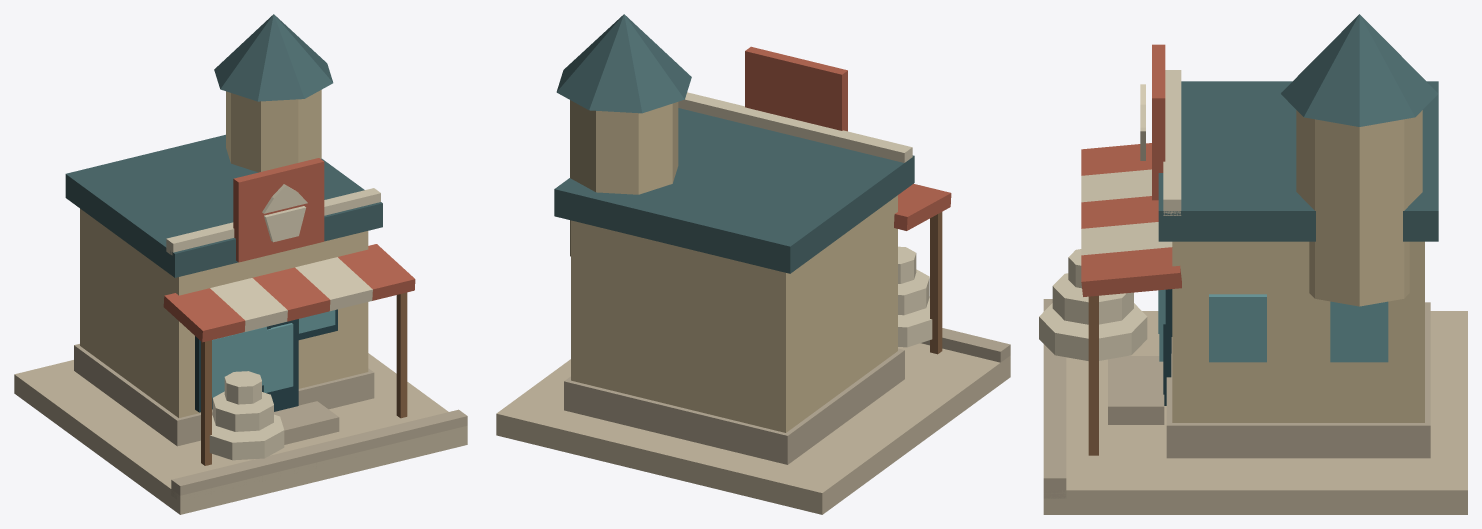
File: patisserie-complete.glb
3 views of the same model, side by side, from view 1: azimuth 30°, elevation 25°; view 2: azimuth 150°, elevation 25°; view 3: azimuth 270°, elevation 25° (orthographic). The views are drawn at different scales.
Visible parts, largest first — view 1: patisserie; view 2: patisserie; view 3: patisserie.
Part boxes in pixels (left/top/right/bottom): patisserie: left=14, top=14, right=467, bottom=514; patisserie: left=496, top=14, right=1010, bottom=514; patisserie: left=1039, top=14, right=1467, bottom=514.
Bounding box in the file's own units: 1.88 × 2.23 × 1.9.
